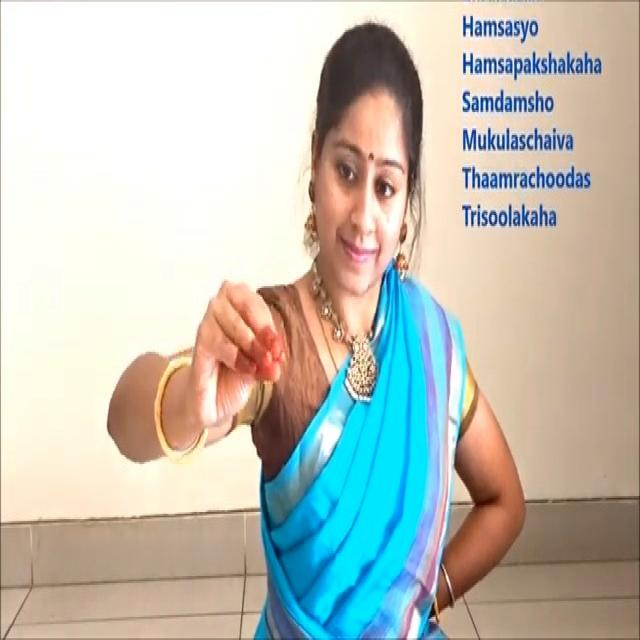Mukula: (192, 264, 288, 447)
lady: (293, 15, 432, 311)
text: (454, 10, 610, 237)
